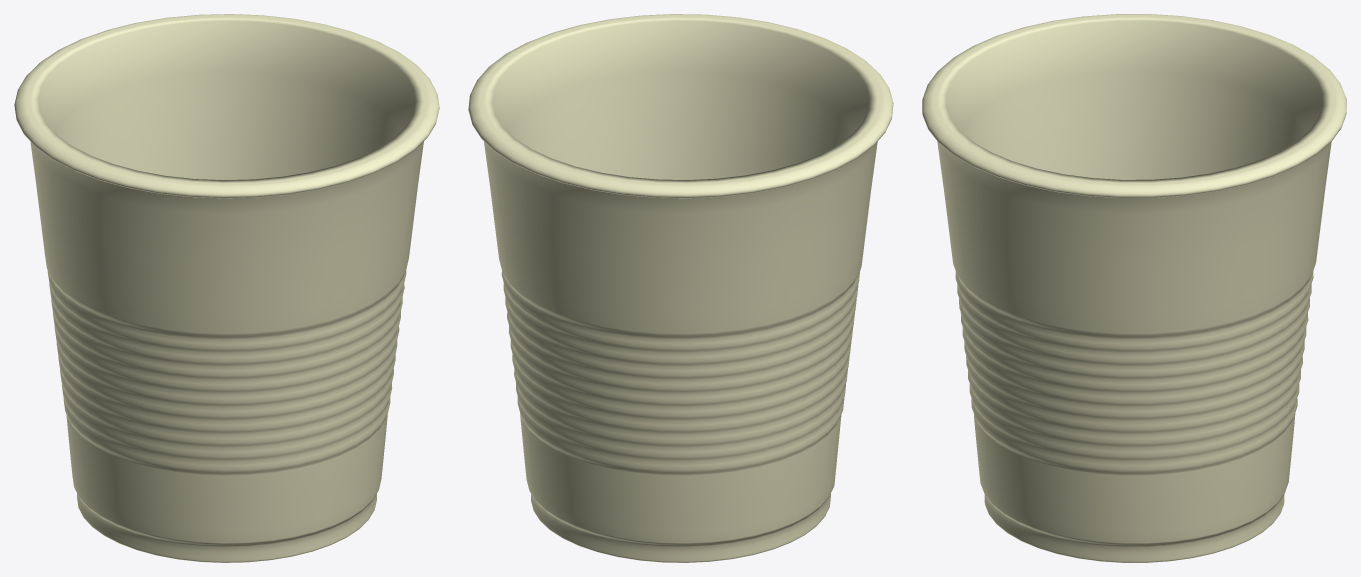
The picture shows the model from 3 angles, left to right: view 1: azimuth 30°, elevation 25°; view 2: azimuth 150°, elevation 25°; view 3: azimuth 270°, elevation 25°; orthographic projection.
Parts seen in each view (by area): view 1: Plastic_Cup_hi; view 2: Plastic_Cup_hi; view 3: Plastic_Cup_hi.
Part boxes in pixels (left/top/right/bottom): Plastic_Cup_hi: left=14, top=14, right=439, bottom=562; Plastic_Cup_hi: left=468, top=14, right=893, bottom=562; Plastic_Cup_hi: left=922, top=14, right=1346, bottom=562.
Bounding box in the file's own units: 13.68 × 14.24 × 13.68.
